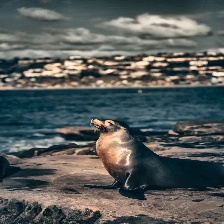seal: (90, 119, 224, 196)
